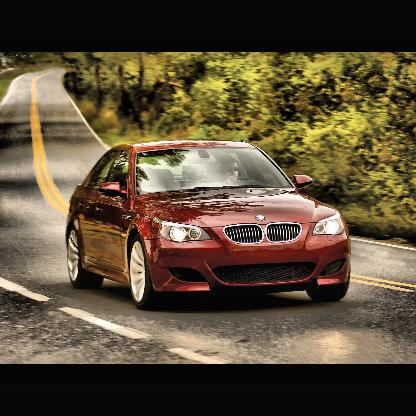BMW M5 Sedan 2010: (66, 142, 350, 311)
